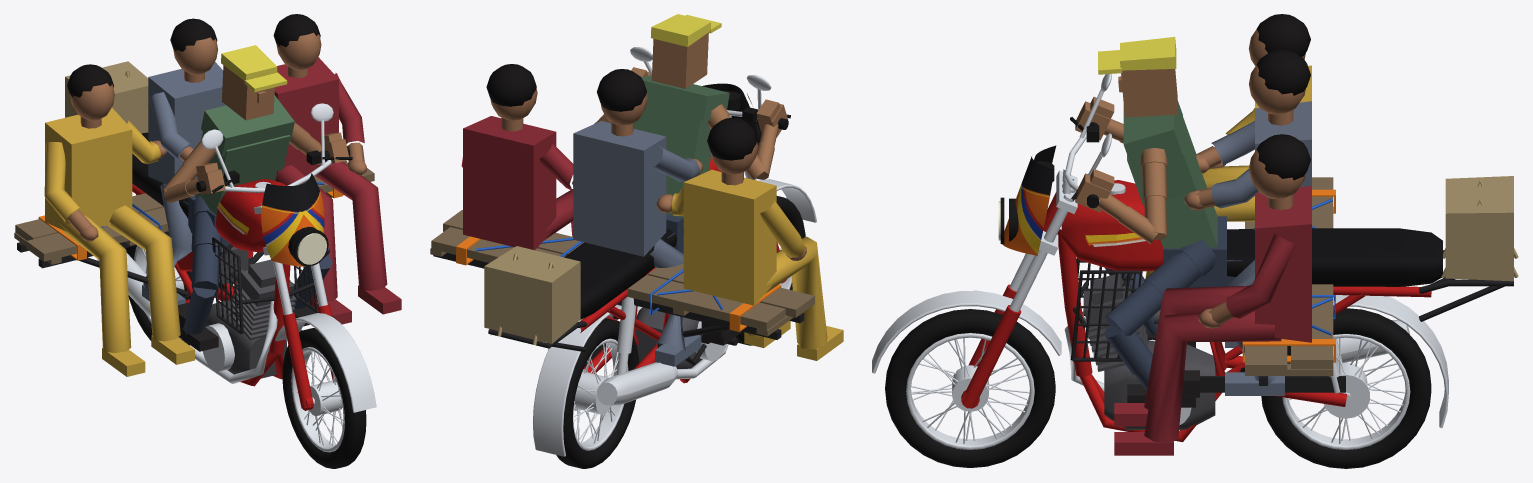
Rendered from habalhabal.glb.
3 renders of one model, left to right at view 1: azimuth 30°, elevation 25°; view 2: azimuth 150°, elevation 25°; view 3: azimuth 270°, elevation 25°, orthographic. The views are drawn at different scales.
Visible parts, largest first — view 1: Passenger_2, Passenger_1, Passenger_0, Torso, Skin (×3), Engine, Fork, Body, Spin (×2), Cowl, Ironwork, Hair (×3) (+21 smaller); view 2: Passenger_2, Passenger_0, Passenger_1, Chrome, Cargo, Plank, Torso, Hair (×3), Spin (×2), Saddle, Skin (×3), Rim (+14 smaller); view 3: Passenger_1, Spin (×2), Body, Rim (×2), Saddle, Cargo, Torso, Fork, Passenger_0, Hair (×3), Ironwork, Engine (+18 smaller).
Part boxes in pixels (left/top/right/bottom): Passenger_2: left=44, top=107, right=194, bottom=376; Passenger_1: left=274, top=57, right=401, bottom=324; Passenger_0: left=142, top=62, right=252, bottom=304; Torso: left=195, top=95, right=294, bottom=214; Skin (×3): left=67, top=32, right=366, bottom=241; Engine: left=204, top=246, right=296, bottom=378; Fork: left=222, top=160, right=376, bottom=412; Body: left=132, top=179, right=290, bottom=386; Spin (×2): left=125, top=245, right=366, bottom=468; Cowl: left=261, top=173, right=324, bottom=266; Ironwork: left=17, top=192, right=332, bottom=345; Hair (×3): left=67, top=14, right=320, bottom=97; Passenger_2: left=672, top=169, right=843, bottom=360; Passenger_0: left=573, top=121, right=701, bottom=366; Passenger_1: left=461, top=116, right=573, bottom=250; Chrome: left=533, top=296, right=728, bottom=456; Cargo: left=484, top=246, right=580, bottom=345; Plank: left=430, top=210, right=814, bottom=336; Torso: left=633, top=75, right=729, bottom=217; Hair (×3): left=486, top=64, right=757, bottom=160; Spin (×2): left=556, top=196, right=805, bottom=468; Saddle: left=564, top=228, right=676, bottom=319; Skin (×3): left=490, top=88, right=806, bottom=260; Rim: left=573, top=338, right=628, bottom=450; Passenger_1: left=1114, top=185, right=1311, bottom=455; Spin (×2): left=885, top=308, right=1431, bottom=468; Body: left=1043, top=180, right=1431, bottom=441; Rim (×2): left=906, top=333, right=1410, bottom=449; Saddle: left=1227, top=228, right=1442, bottom=286; Cargo: left=1441, top=176, right=1518, bottom=281; Torso: left=1123, top=100, right=1217, bottom=248; Fork: left=872, top=132, right=1099, bottom=373; Passenger_0: left=1211, top=101, right=1311, bottom=395; Hair (×3): left=1256, top=14, right=1310, bottom=180; Ironwork: left=1070, top=250, right=1513, bottom=392; Engine: left=1083, top=273, right=1215, bottom=430.
Size of the model in its own units: 1.6 by 1.62 by 2.27.
Materials: 23 (2 with a texture image).
